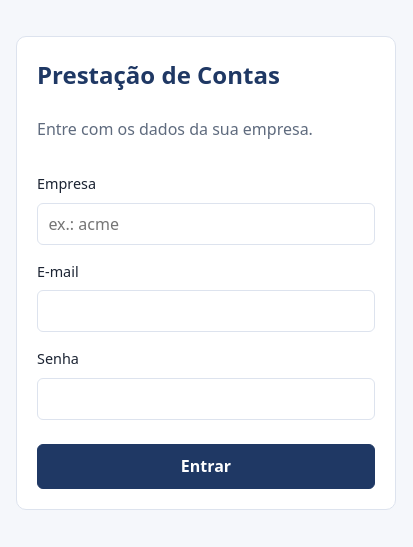
Test: LoginPage › mostra mensagem de credenciais inválidas
Type "acme" into the field labelled "Empresa".
click(206, 224); type("acme")  # box top-left (37, 203), bottom-right (375, 245)
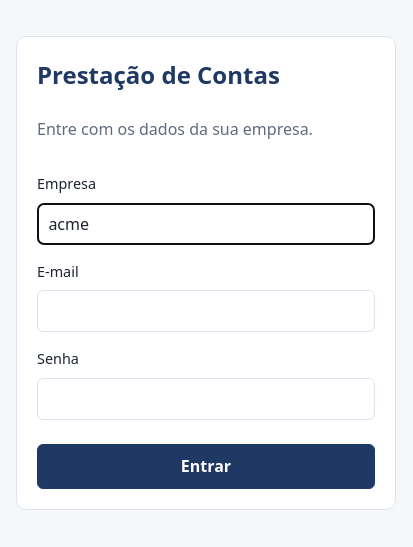
Type "admin@acme.com.br" into the field labelled "E-mail".
click(206, 311); type("admin@acme.com.br")  # box top-left (37, 290), bottom-right (375, 332)
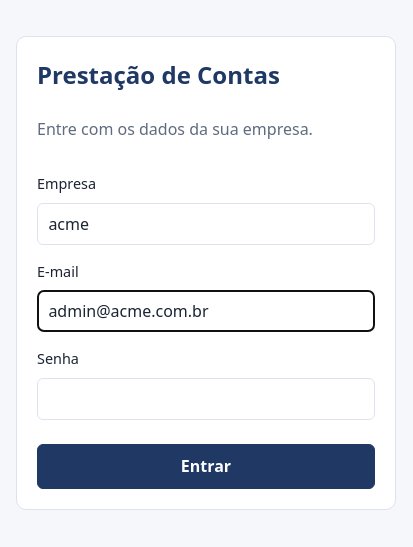
Type "errada" into the password field labelled "Senha".
click(206, 399); type("errada")  # box top-left (37, 378), bottom-right (375, 420)
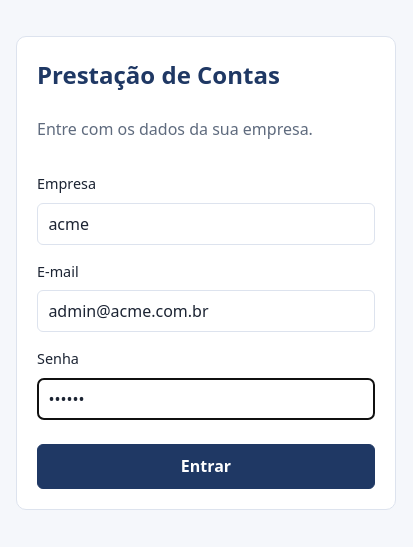
Click the button "Entrar".
click(206, 466)  # box top-left (37, 444), bottom-right (375, 489)
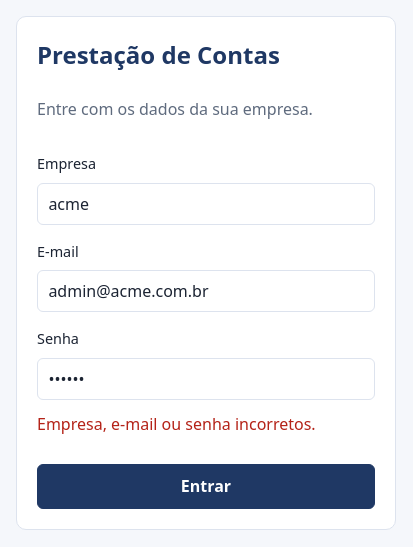
Expected: the message reads "Empresa, e-mail ou senha incorretos.", top-left (37, 413), bottom-right (316, 435)
